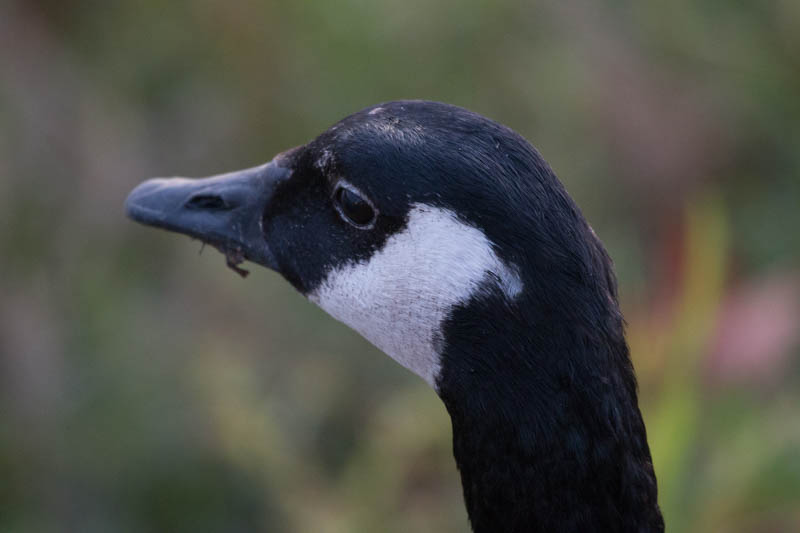goose-head: (120, 98, 620, 398)
